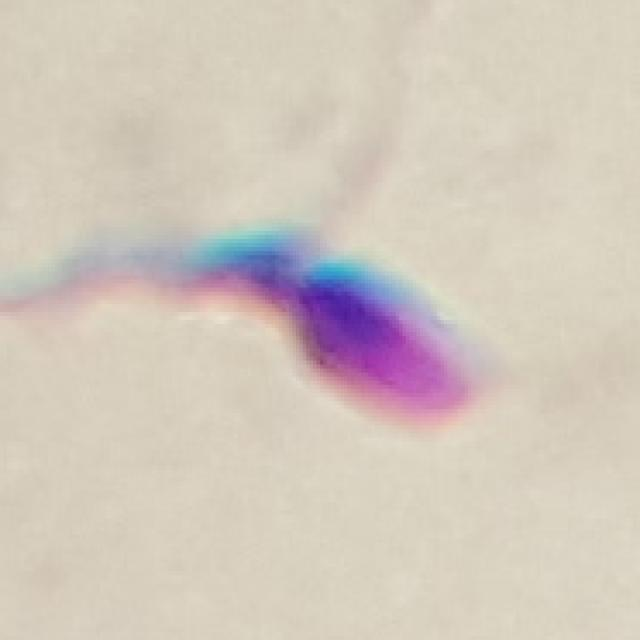abnormal sperm: (68, 223, 482, 435)
